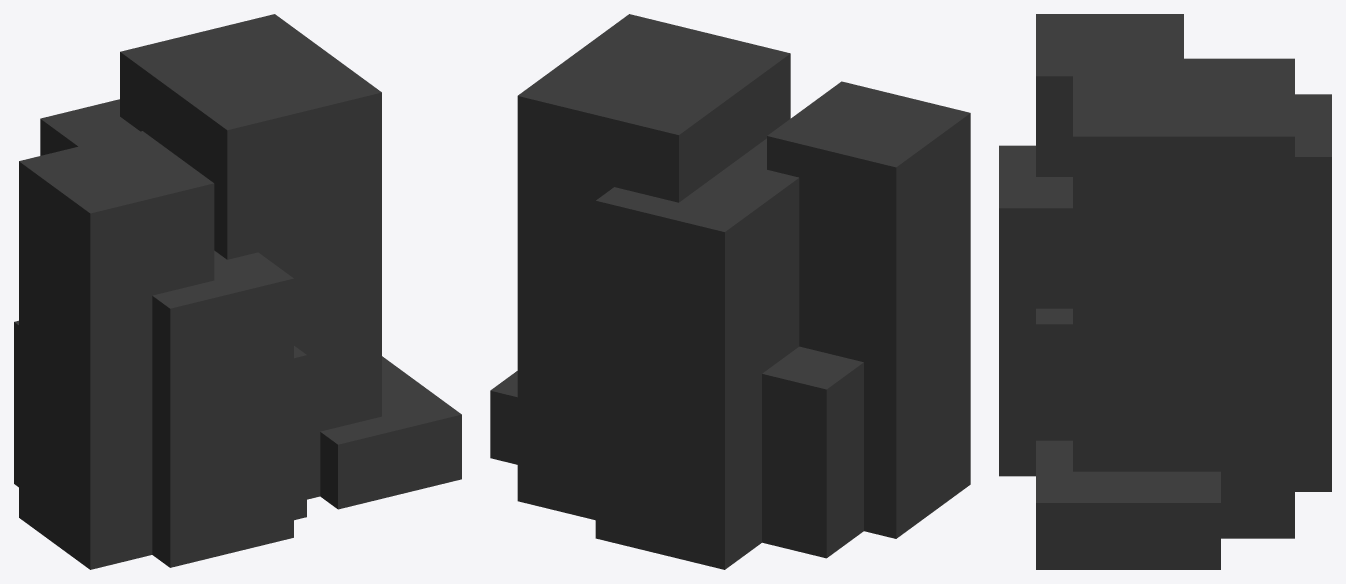
File: Rock 05.obj
3 renders of one model, left to right at view 1: azimuth 30°, elevation 25°; view 2: azimuth 150°, elevation 25°; view 3: azimuth 270°, elevation 25°, orthographic. The views are drawn at different scales.
Size of the model in its own units: 1.2 by 1.2 by 0.9.
Materials: 1 (1 with a texture image).
